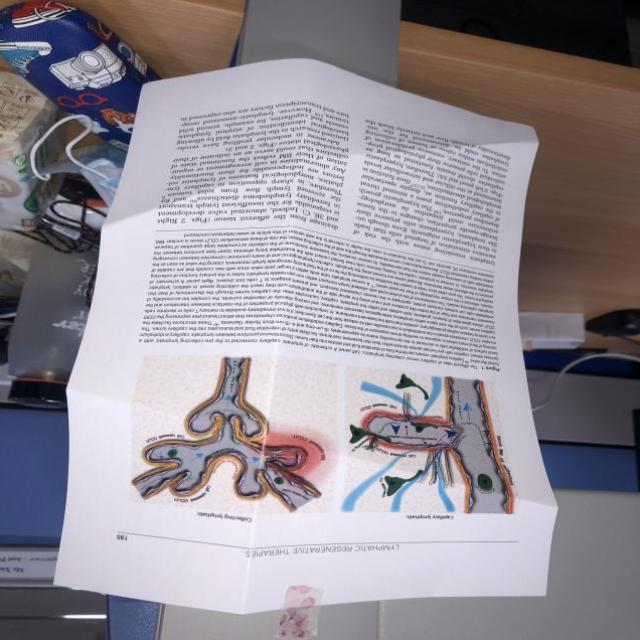kertas: (55, 46, 582, 631)
